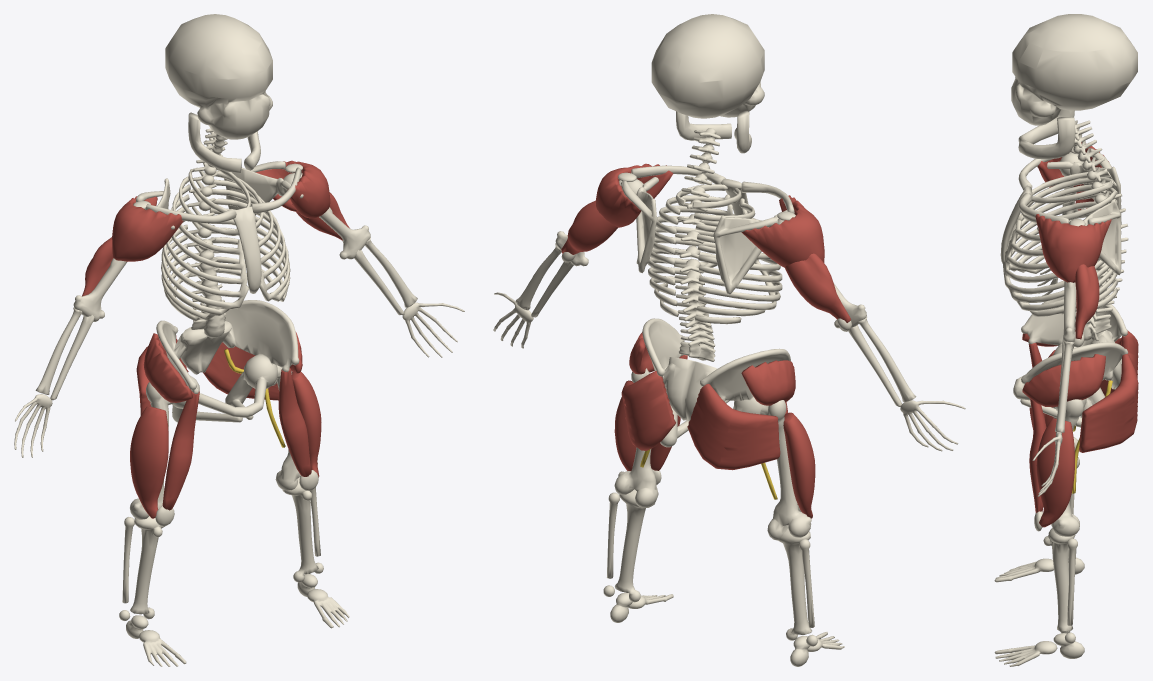
File: infant_anatomy.glb
3 renders of one model, left to right at view 1: azimuth 30°, elevation 25°; view 2: azimuth 150°, elevation 25°; view 3: azimuth 270°, elevation 25°, orthographic. The views are drawn at different scales.
Parts seen in each view (by area): view 1: Infant_Bone_Skull, Infant_Bone_Ribs, Infant_Bone_Pelvis, Infant_Muscle_VastusLateralis_R, Infant_Muscle_Deltoid_R, Infant_Bone_Spine, Infant_Muscle_RectusFemoris_R, Infant_Muscle_RectusFemoris_L, Infant_Muscle_Deltoid_L, Infant_Muscle_GluteusMedius_R, Infant_Bone_Tibia_R, Infant_Muscle_GluteusMaximus_L (+18 smaller); view 2: Infant_Bone_Skull, Infant_Bone_Ribs, Infant_Bone_Pelvis, Infant_Muscle_GluteusMaximus_R, Infant_Bone_Spine, Infant_Muscle_GluteusMaximus_L, Infant_Muscle_Deltoid_R, Infant_Bone_Scapula_R, Infant_Bone_Femur_R, Infant_Muscle_VastusLateralis_R, Infant_Muscle_Triceps_R, Infant_Muscle_Deltoid_L (+17 smaller); view 3: Infant_Bone_Skull, Infant_Bone_Ribs, Infant_Bone_Pelvis, Infant_Muscle_GluteusMaximus_L, Infant_Muscle_Deltoid_L, Infant_Muscle_VastusLateralis_L, Infant_Muscle_GluteusMedius_L, Infant_Bone_Spine, Infant_Bone_Scapula_L, Infant_Bone_Tibia_L, Infant_Muscle_Triceps_L, Infant_Bone_FootBones_L (+17 smaller).
Part boxes in pixels (<box>): Infant_Bone_Skull: <box>165,14,272,172</box>; Infant_Bone_Ribs: <box>161,167,290,321</box>; Infant_Bone_Pelvis: <box>156,300,299,422</box>; Infant_Muscle_VastusLateralis_R: <box>130,406,168,518</box>; Infant_Muscle_Deltoid_R: <box>112,196,183,261</box>; Infant_Bone_Spine: <box>187,128,227,337</box>; Infant_Muscle_RectusFemoris_R: <box>162,390,199,510</box>; Infant_Muscle_RectusFemoris_L: <box>278,368,311,476</box>; Infant_Muscle_Deltoid_L: <box>256,160,330,218</box>; Infant_Muscle_GluteusMedius_R: <box>143,333,192,402</box>; Infant_Bone_Tibia_R: <box>130,516,165,619</box>; Infant_Muscle_GluteusMaximus_L: <box>203,342,278,400</box>; Infant_Bone_Skull: <box>651,14,764,153</box>; Infant_Bone_Ribs: <box>647,184,782,324</box>; Infant_Bone_Pelvis: <box>642,318,790,447</box>; Infant_Muscle_GluteusMaximus_R: <box>687,384,780,470</box>; Infant_Bone_Spine: <box>674,128,720,361</box>; Infant_Muscle_GluteusMaximus_L: <box>621,371,675,450</box>; Infant_Muscle_Deltoid_R: <box>741,195,824,267</box>; Infant_Bone_Scapula_R: <box>713,210,795,294</box>; Infant_Bone_Femur_R: <box>760,400,811,540</box>; Infant_Muscle_VastusLateralis_R: <box>783,412,815,518</box>; Infant_Muscle_Triceps_R: <box>784,253,850,322</box>; Infant_Muscle_Deltoid_L: <box>596,163,673,227</box>; Infant_Bone_Skull: <box>1011,14,1137,159</box>; Infant_Bone_Ribs: <box>1002,171,1117,316</box>; Infant_Bone_Pelvis: <box>1013,296,1128,427</box>; Infant_Muscle_GluteusMaximus_L: <box>1079,354,1138,452</box>; Infant_Muscle_Deltoid_L: <box>1035,214,1111,282</box>; Infant_Muscle_VastusLateralis_L: <box>1036,418,1074,527</box>; Infant_Muscle_GluteusMedius_L: <box>1022,354,1105,406</box>; Infant_Bone_Spine: <box>1073,120,1128,341</box>; Infant_Bone_Scapula_L: <box>1037,199,1121,275</box>; Infant_Bone_Tibia_L: <box>1043,528,1075,633</box>; Infant_Muscle_Triceps_L: <box>1075,264,1099,339</box>; Infant_Bone_FootBones_L: <box>994,633,1084,666</box>.
Bounding box in the file's own units: 0.5154 × 0.6546 × 0.1425.
